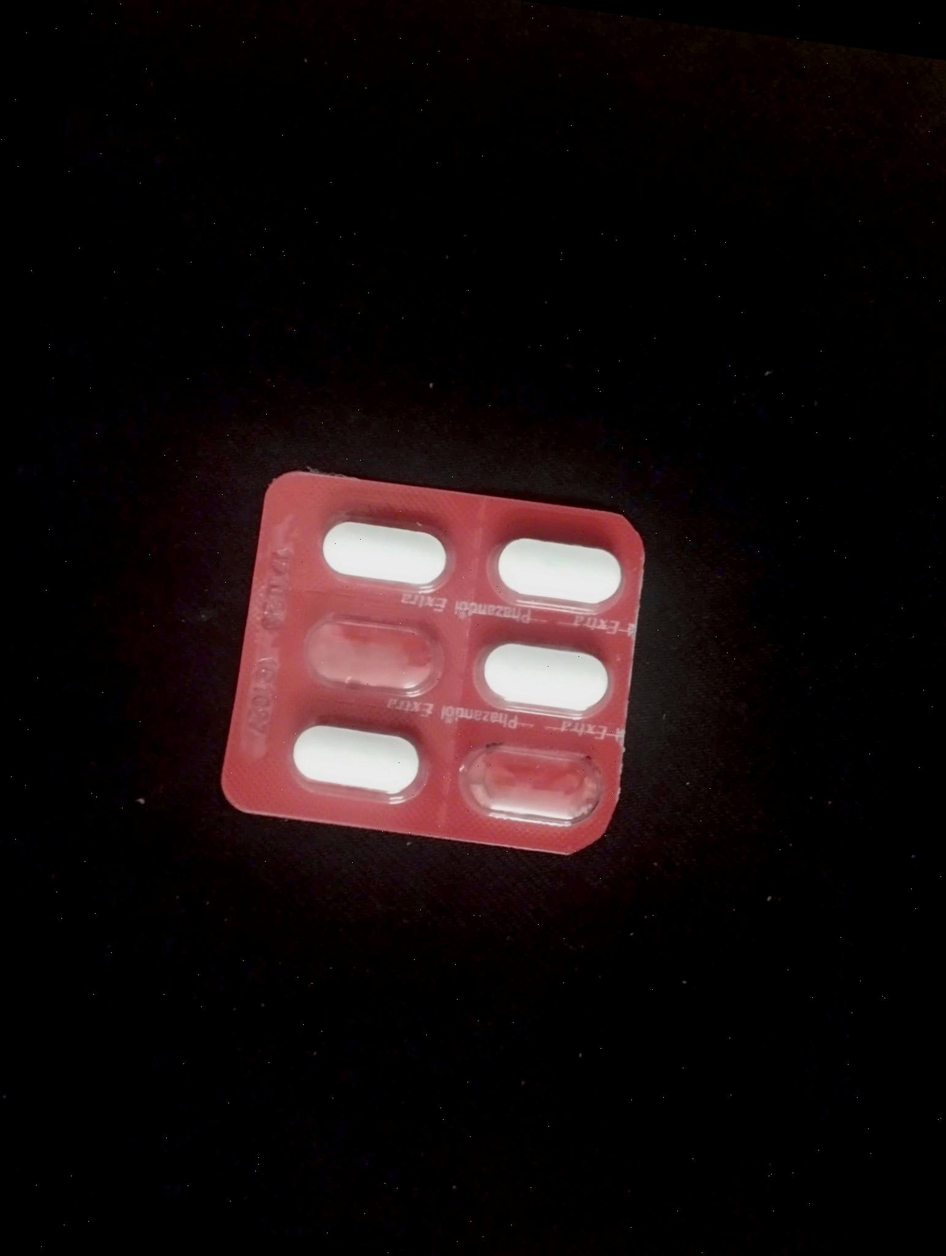Empty: (456, 727, 610, 829), (291, 607, 448, 700)
Full: (469, 629, 623, 722), (483, 524, 636, 615), (313, 508, 460, 600), (288, 714, 431, 808)
